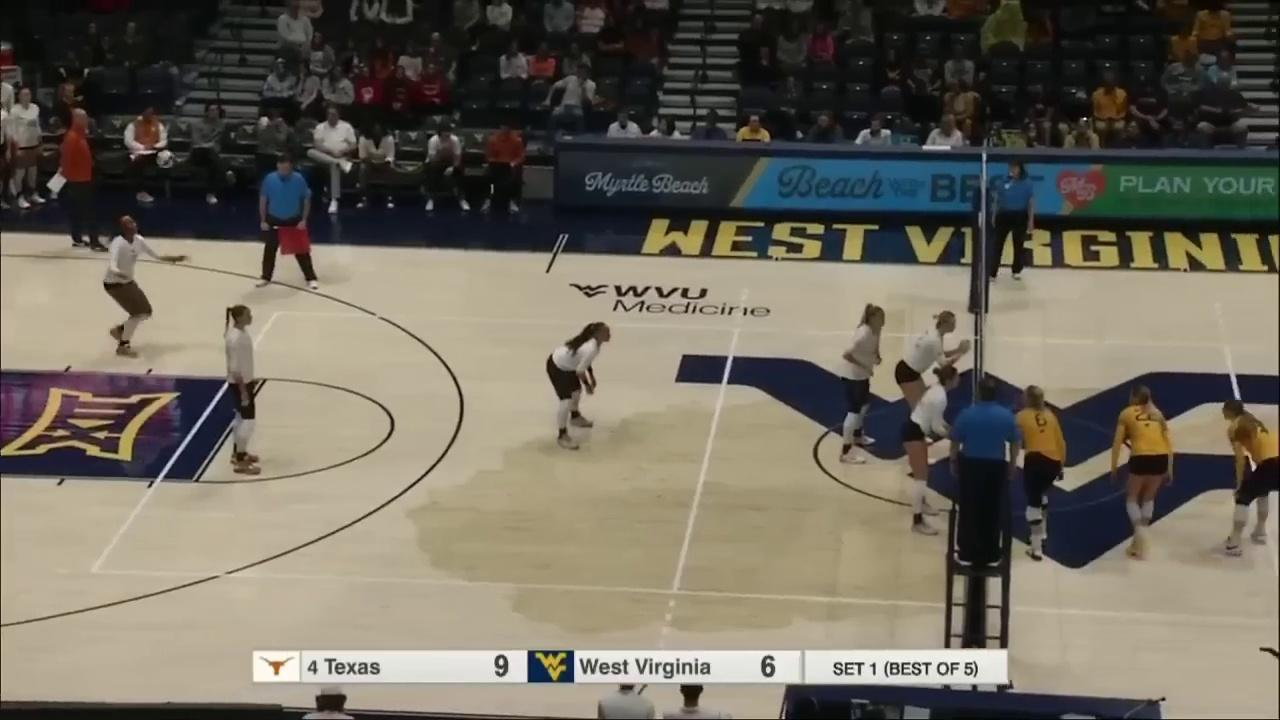player: (99, 216, 186, 360), (896, 314, 964, 464), (1216, 399, 1280, 558), (905, 367, 962, 538), (1117, 392, 1169, 558), (544, 325, 610, 453), (1014, 385, 1060, 560), (839, 306, 886, 460), (223, 305, 260, 475)
refree: (957, 376, 1008, 562), (261, 156, 311, 291), (988, 160, 1032, 282)
